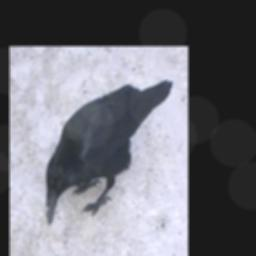Crow: (46, 78, 174, 224)
